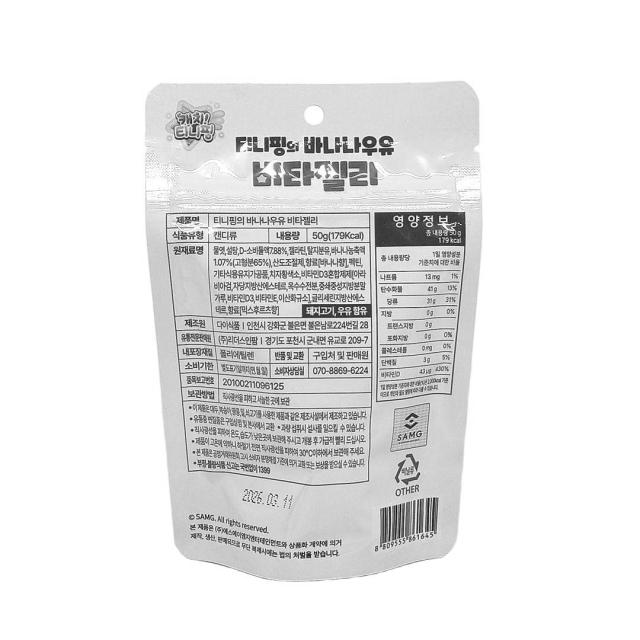Nutrition Label: (372, 205, 467, 418)
